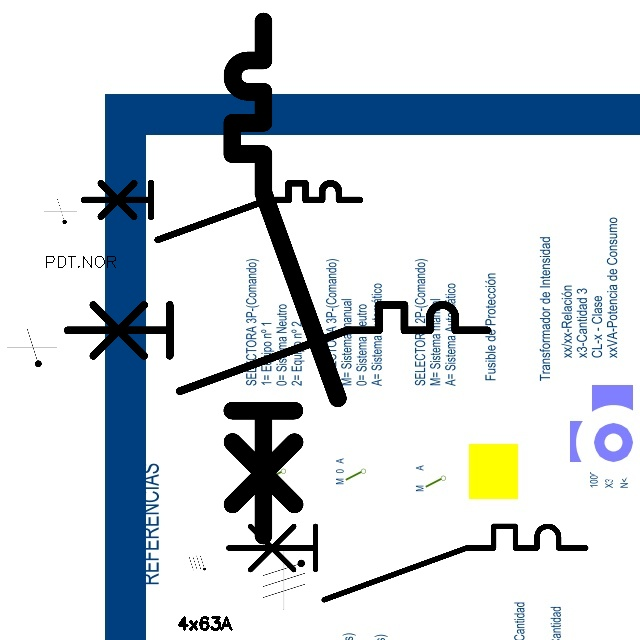interruptor_termomagnetico: (219, 8, 351, 548), (56, 294, 497, 402), (219, 517, 595, 609), (76, 176, 366, 247)
